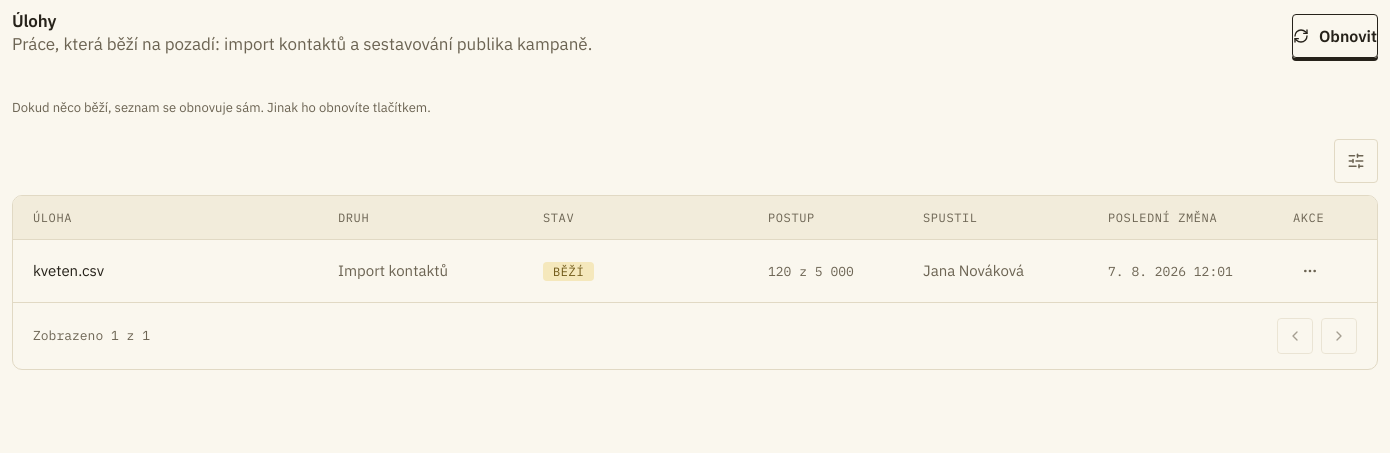
Test: Centrum úloh, tabulka › akce řádku jsou v nabídce pod třemi tečkami
This screenshot has width=1390, height=453.
Expected: the text "Otevřít import" is not shown
Click the button named "Další akce k úloze kveten.csv" at (1310, 271), box [1293, 254, 1327, 288]
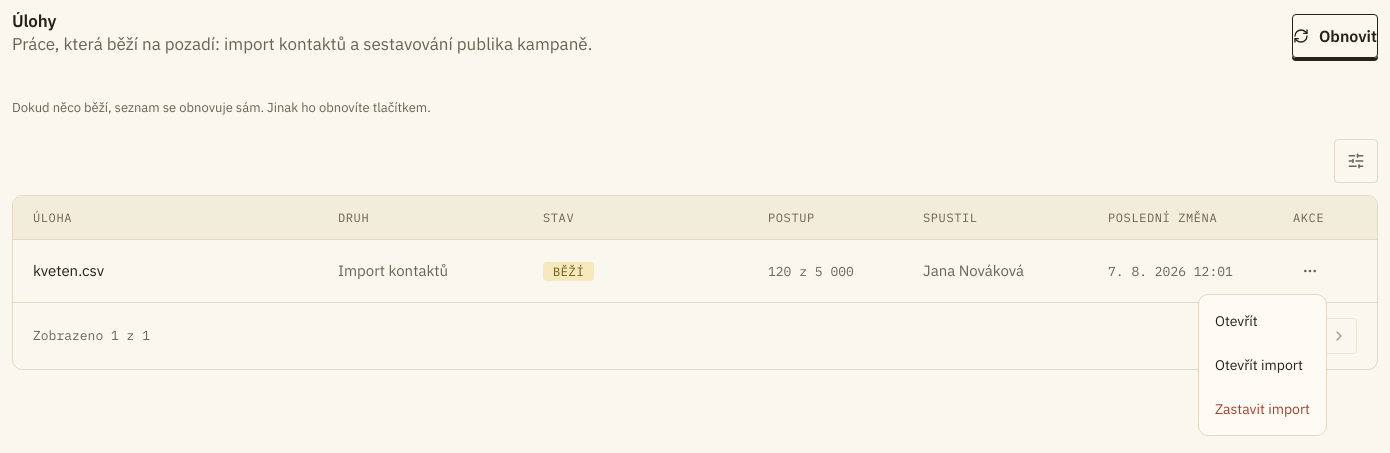
Expected: the menu item "Otevřít" is shown, [1215, 312, 1258, 330]
Expected: the menu item "Otevřít import" is shown, [1215, 356, 1303, 374]
